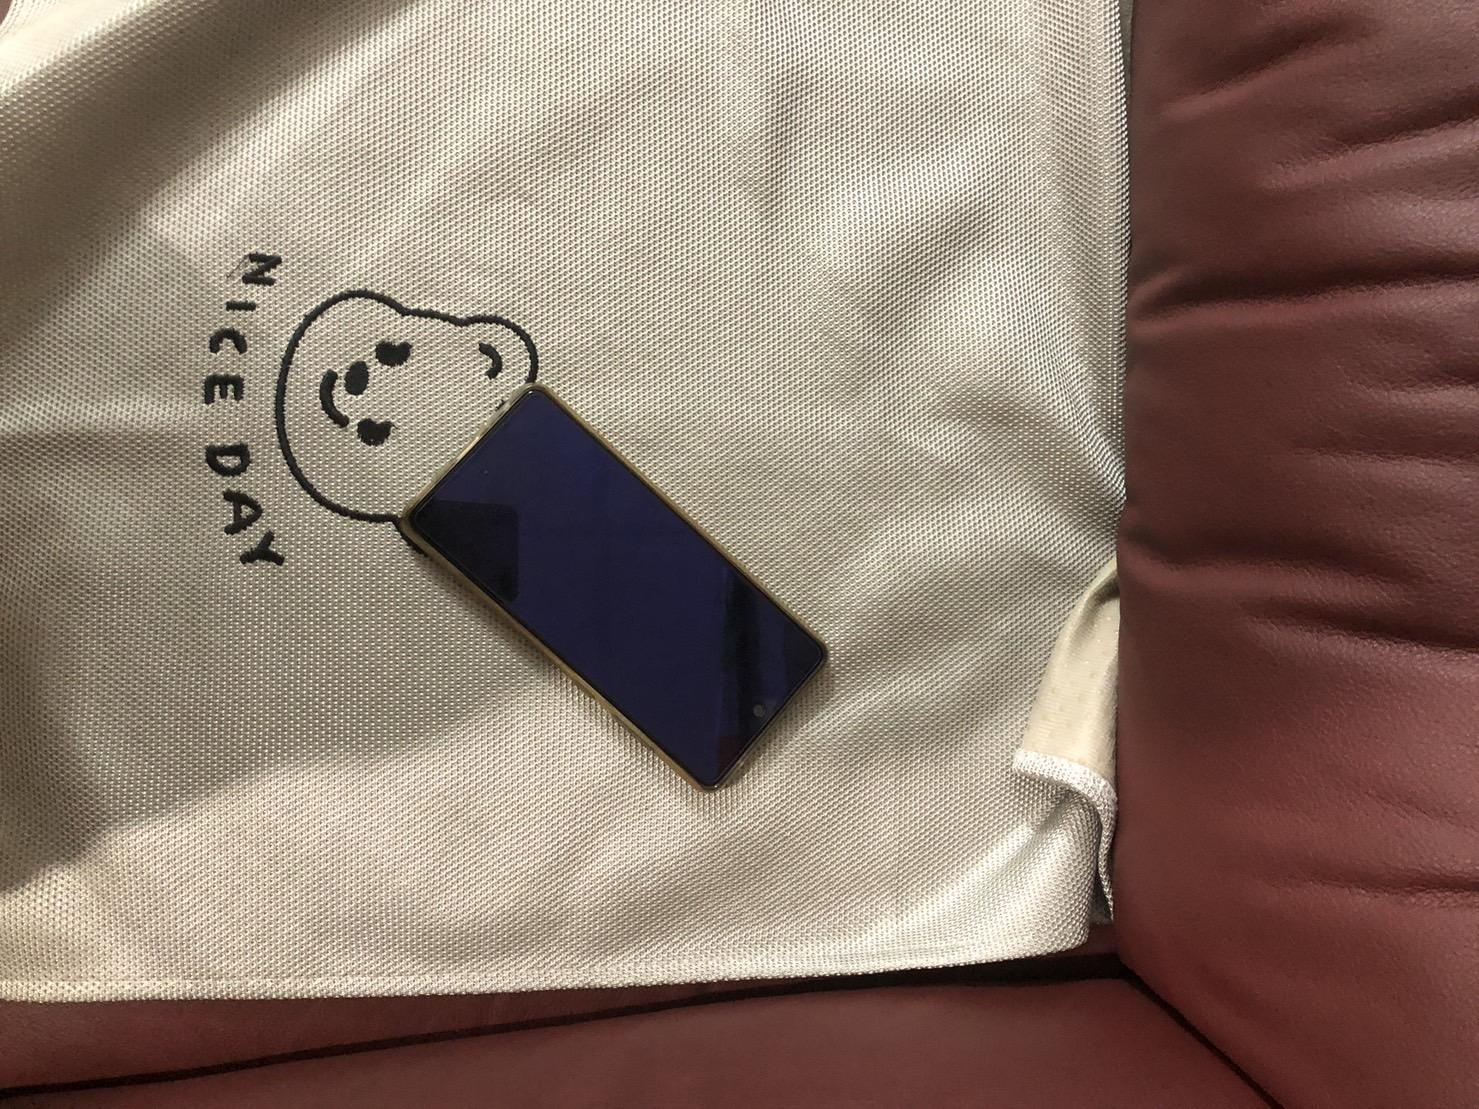Phone: (399, 384, 827, 791)
